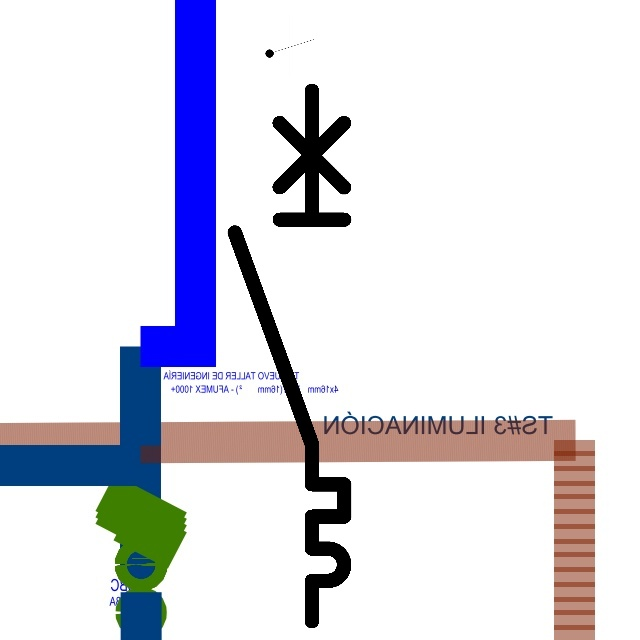interruptor_termomagnetico: (221, 77, 358, 635)
